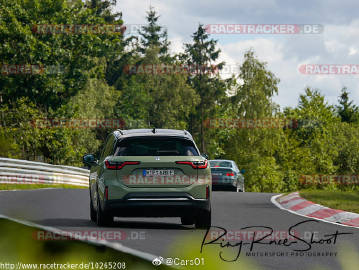other: (82, 130, 216, 229), (203, 154, 248, 194)
